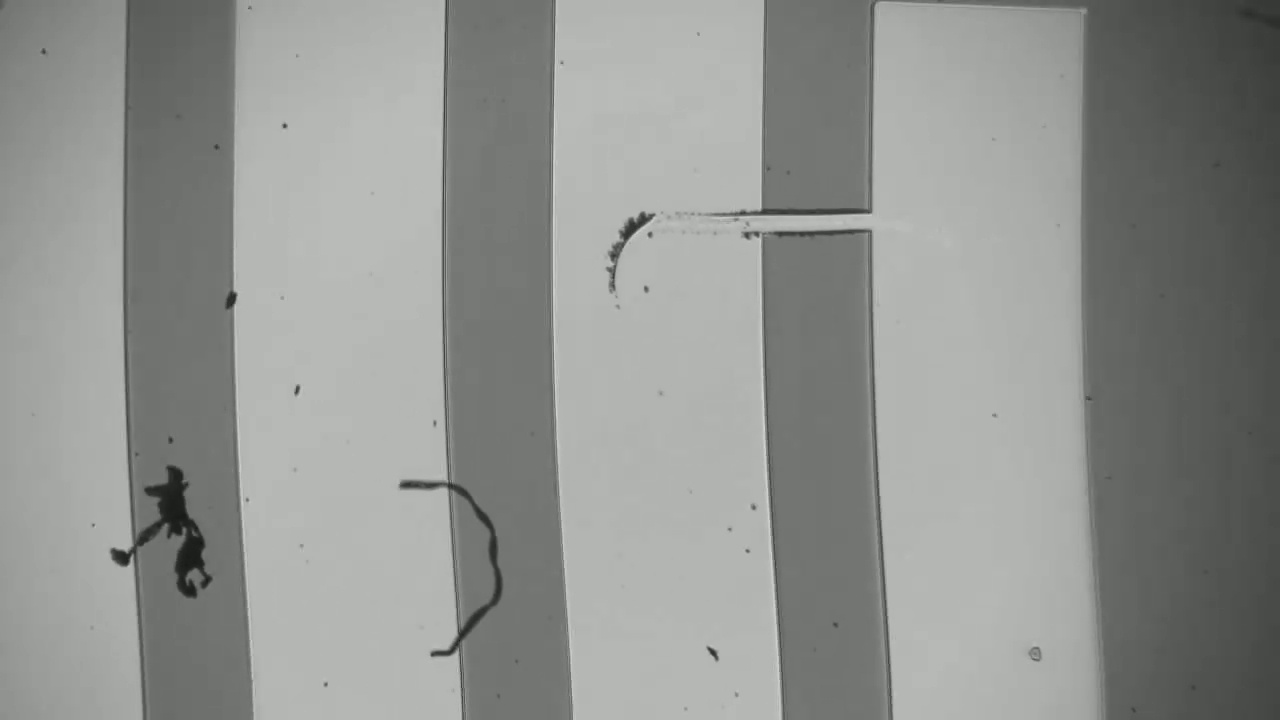Short_circuit: (729, 182, 887, 267)
